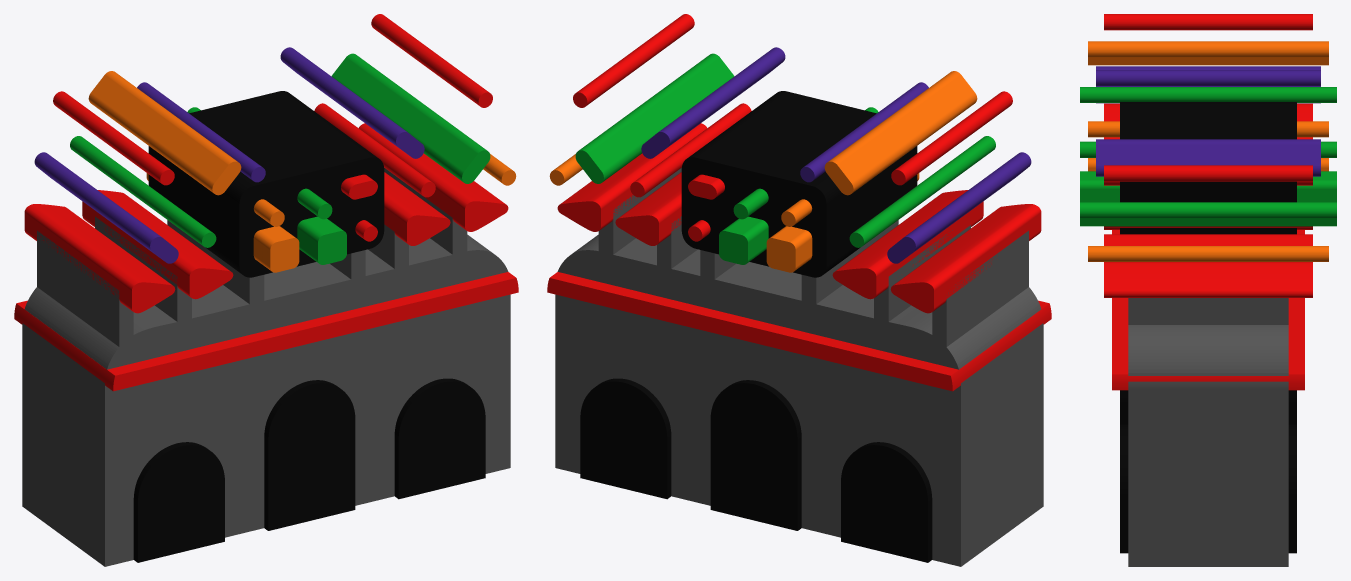
The picture shows the model from 3 angles, left to right: view 1: azimuth 30°, elevation 25°; view 2: azimuth 150°, elevation 25°; view 3: azimuth 270°, elevation 25°; orthographic projection. The views are drawn at different scales.
Visible parts, largest first — view 1: U+1F3DF_layer00_obj00, U+1F3DF_layer01_obj00, U+1F3DF_layer03_obj00, U+1F3DF_layer06_obj00, U+1F3DF_layer02_obj00, U+1F3DF_layer05_obj00, U+1F3DF_layer04_obj00; view 2: U+1F3DF_layer00_obj00, U+1F3DF_layer01_obj00, U+1F3DF_layer03_obj00, U+1F3DF_layer06_obj00, U+1F3DF_layer02_obj00, U+1F3DF_layer05_obj00, U+1F3DF_layer04_obj00; view 3: U+1F3DF_layer00_obj00, U+1F3DF_layer03_obj00, U+1F3DF_layer01_obj00, U+1F3DF_layer06_obj00, U+1F3DF_layer05_obj00, U+1F3DF_layer04_obj00, U+1F3DF_layer02_obj00.
Boxes of the visible parts, x1=… form: U+1F3DF_layer00_obj00: x1=22, y1=168, x2=510, y2=566; U+1F3DF_layer01_obj00: x1=133, y1=91, x2=485, y2=562; U+1F3DF_layer03_obj00: x1=24, y1=14, x2=508, y2=313; U+1F3DF_layer06_obj00: x1=70, y1=53, x2=490, y2=264; U+1F3DF_layer02_obj00: x1=14, y1=272, x2=518, y2=391; U+1F3DF_layer05_obj00: x1=88, y1=71, x2=516, y2=272; U+1F3DF_layer04_obj00: x1=34, y1=47, x2=424, y2=263; U+1F3DF_layer00_obj00: x1=555, y1=168, x2=1043, y2=566; U+1F3DF_layer01_obj00: x1=580, y1=91, x2=932, y2=562; U+1F3DF_layer03_obj00: x1=557, y1=14, x2=1041, y2=313; U+1F3DF_layer06_obj00: x1=575, y1=53, x2=995, y2=264; U+1F3DF_layer02_obj00: x1=547, y1=272, x2=1051, y2=391; U+1F3DF_layer05_obj00: x1=549, y1=71, x2=977, y2=272; U+1F3DF_layer04_obj00: x1=641, y1=47, x2=1031, y2=263; U+1F3DF_layer00_obj00: x1=1128, y1=298, x2=1288, y2=566; U+1F3DF_layer03_obj00: x1=1104, y1=14, x2=1312, y2=297; U+1F3DF_layer01_obj00: x1=1120, y1=102, x2=1296, y2=553; U+1F3DF_layer06_obj00: x1=1080, y1=87, x2=1336, y2=226; U+1F3DF_layer05_obj00: x1=1088, y1=41, x2=1328, y2=261; U+1F3DF_layer04_obj00: x1=1096, y1=66, x2=1320, y2=176; U+1F3DF_layer02_obj00: x1=1112, y1=230, x2=1304, y2=390.
Bounding box in the file's own units: 0.5678 × 0.5271 × 0.32.
